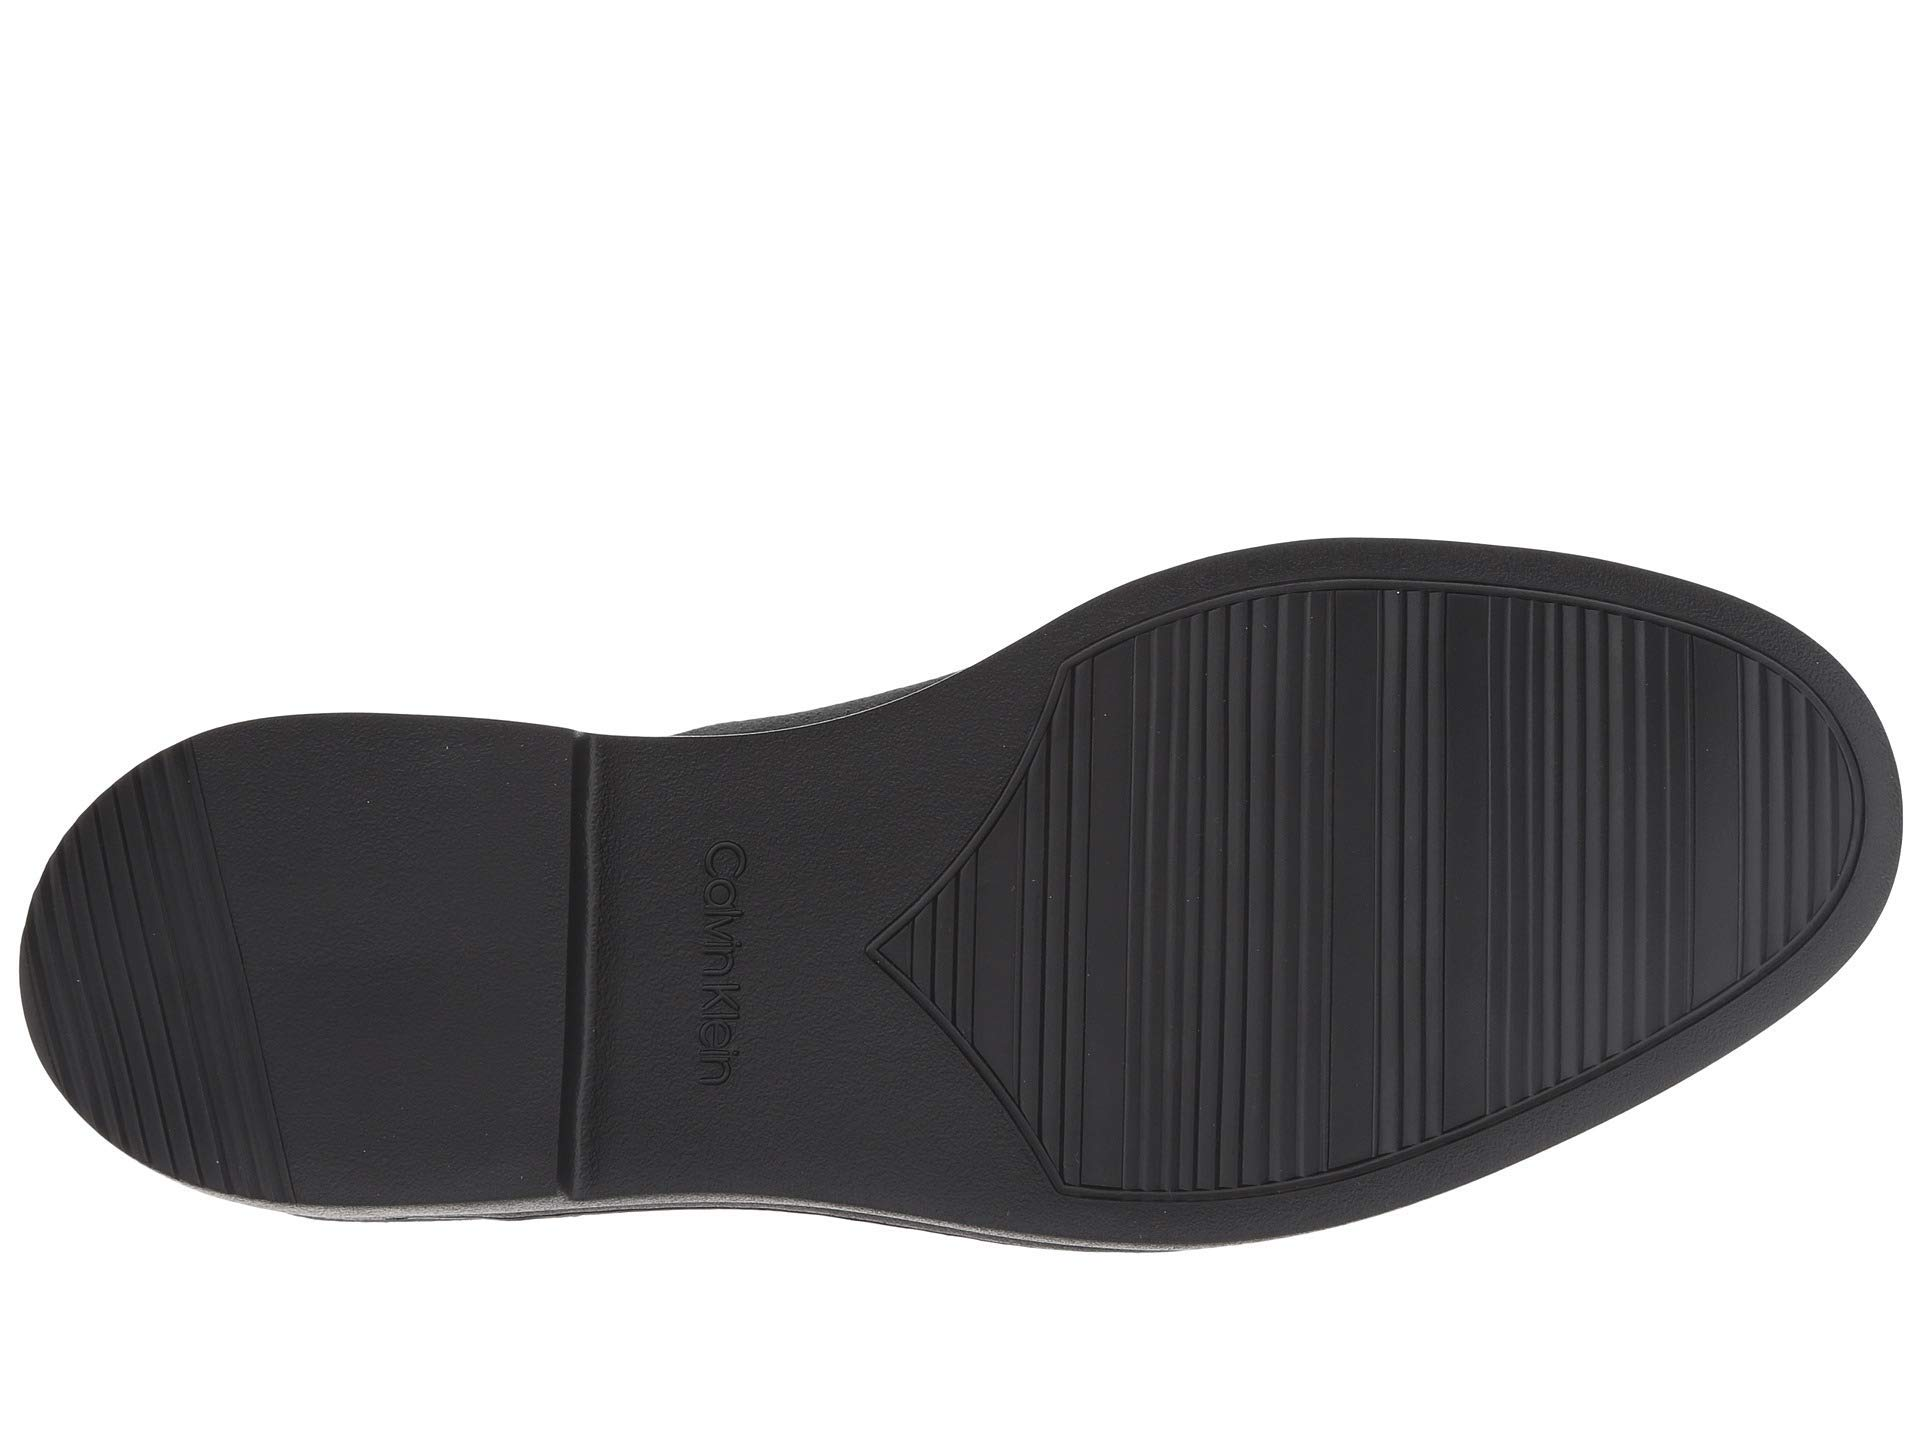circle: (658, 802, 766, 1154)
line: (1098, 601, 1776, 1024), (57, 861, 333, 1128), (538, 722, 629, 1210), (871, 839, 980, 1074)
text: (658, 802, 766, 1154)
triangle: (871, 839, 980, 1074)
